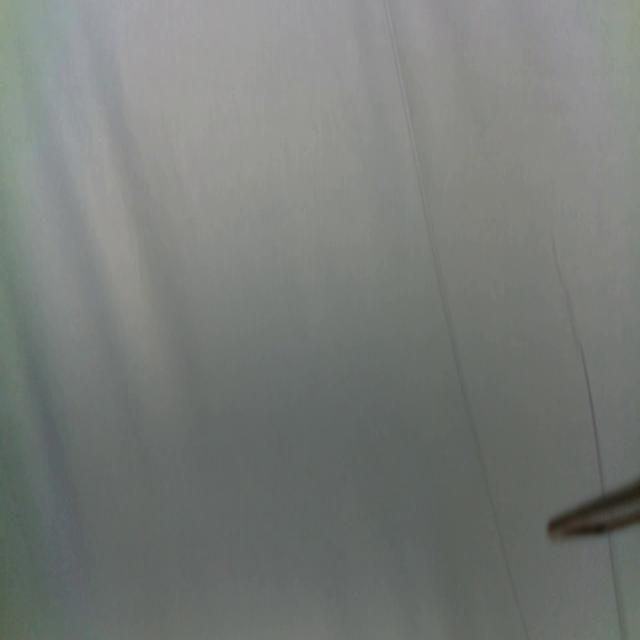crease: (384, 0, 530, 640), (553, 233, 604, 492), (607, 534, 624, 640)
